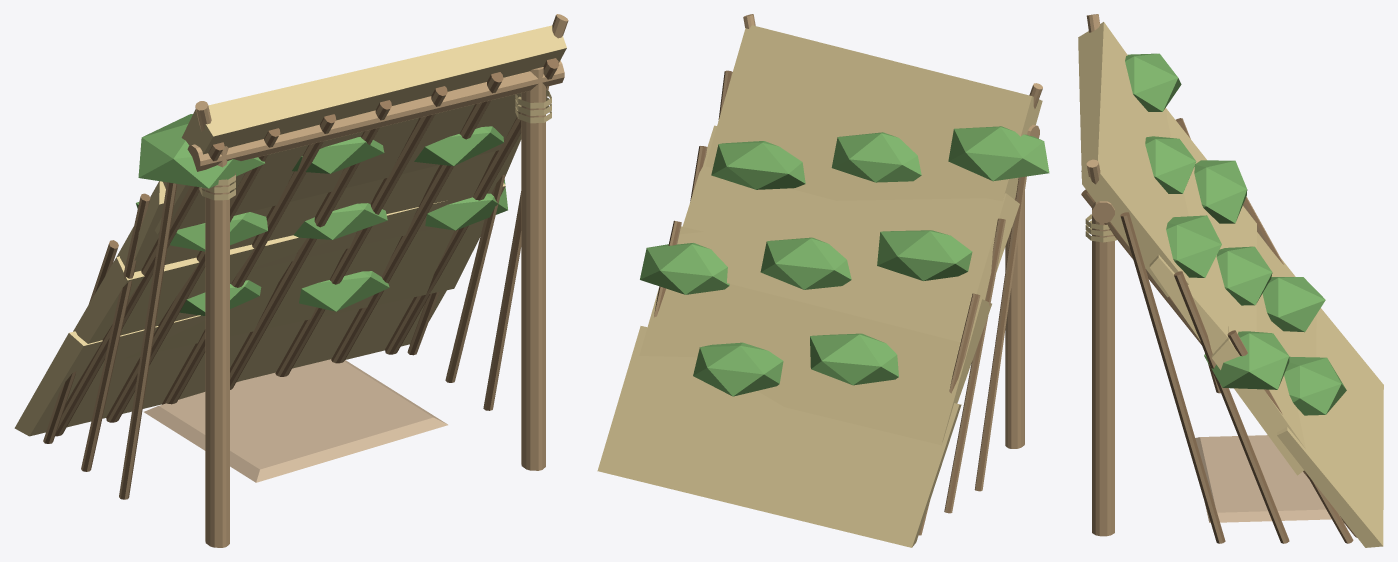
The model's file is lean_to.glb.
3 renders of one model, left to right at view 1: azimuth 30°, elevation 25°; view 2: azimuth 150°, elevation 25°; view 3: azimuth 270°, elevation 25°, orthographic. The views are drawn at different scales.
Visible parts, largest first — view 1: lean_to; view 2: lean_to; view 3: lean_to.
Part boxes in pixels (box(x1,y1,x2,y2)): lean_to: box(14, 14, 568, 547); lean_to: box(597, 14, 1049, 547); lean_to: box(1078, 14, 1383, 547).
Bounding box in the file's own units: 1.98 × 1.96 × 1.43.
